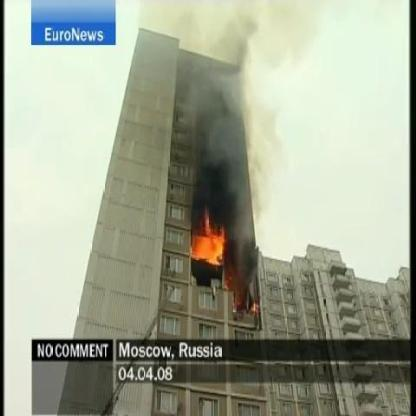fire: (191, 212, 226, 265)
